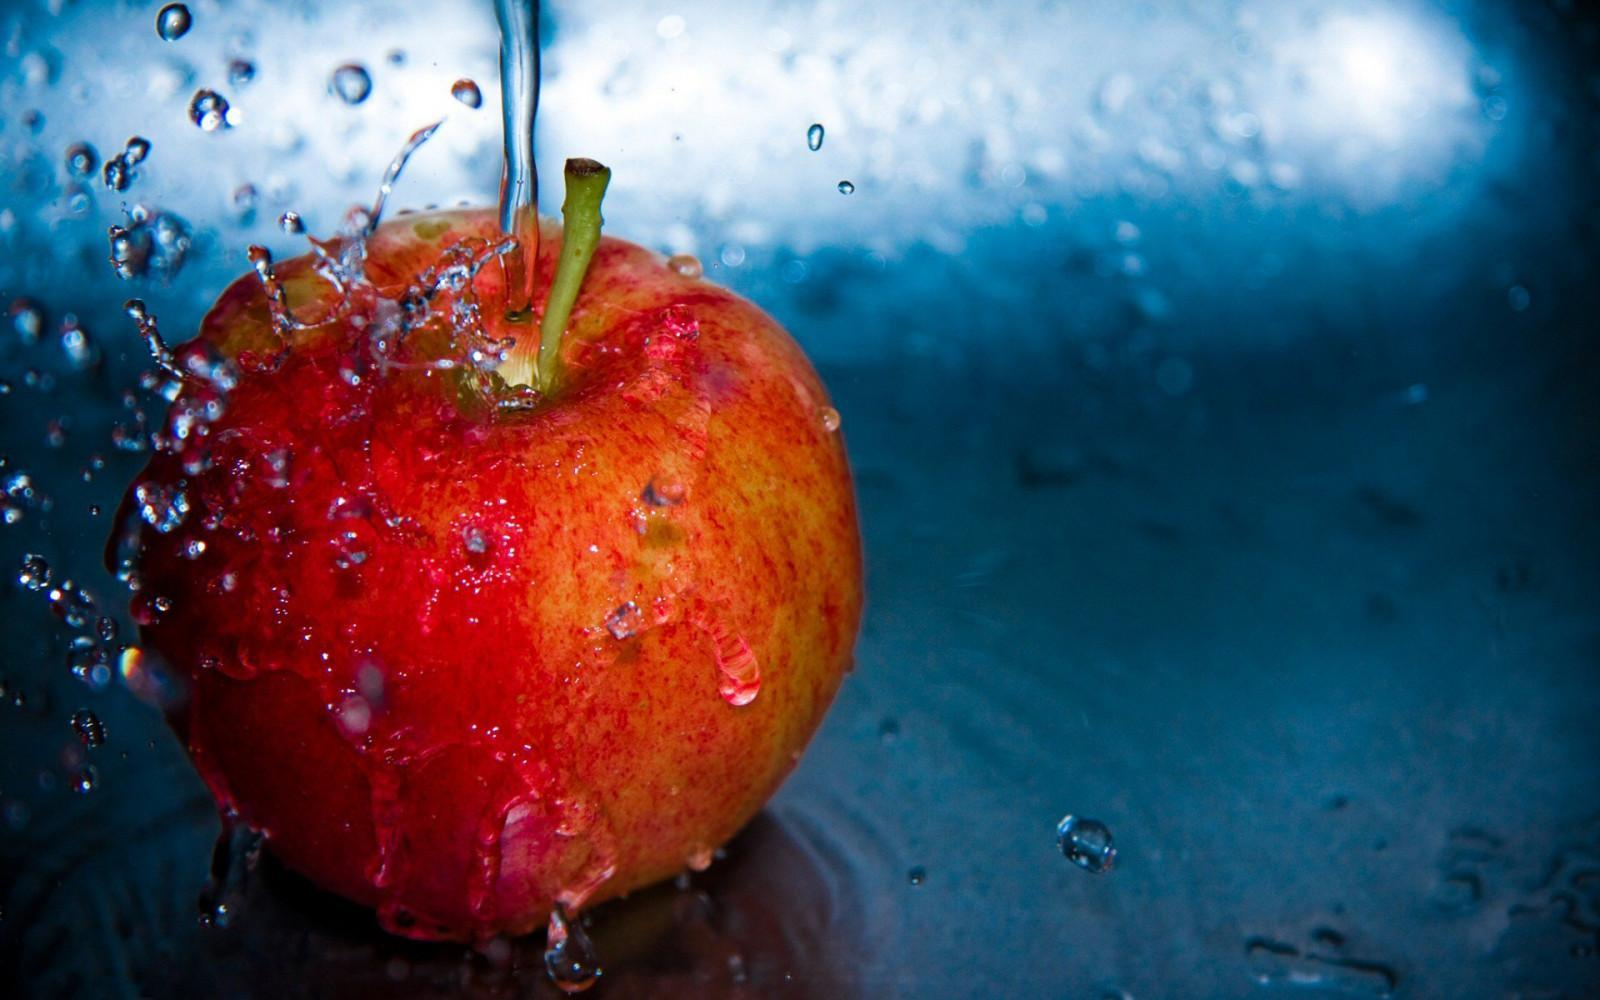apple: (117, 142, 850, 935)
